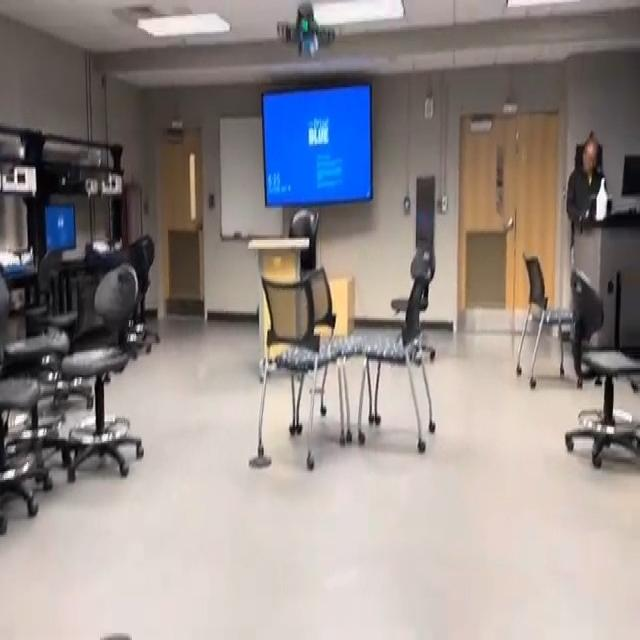drone: (272, 0, 340, 70)
